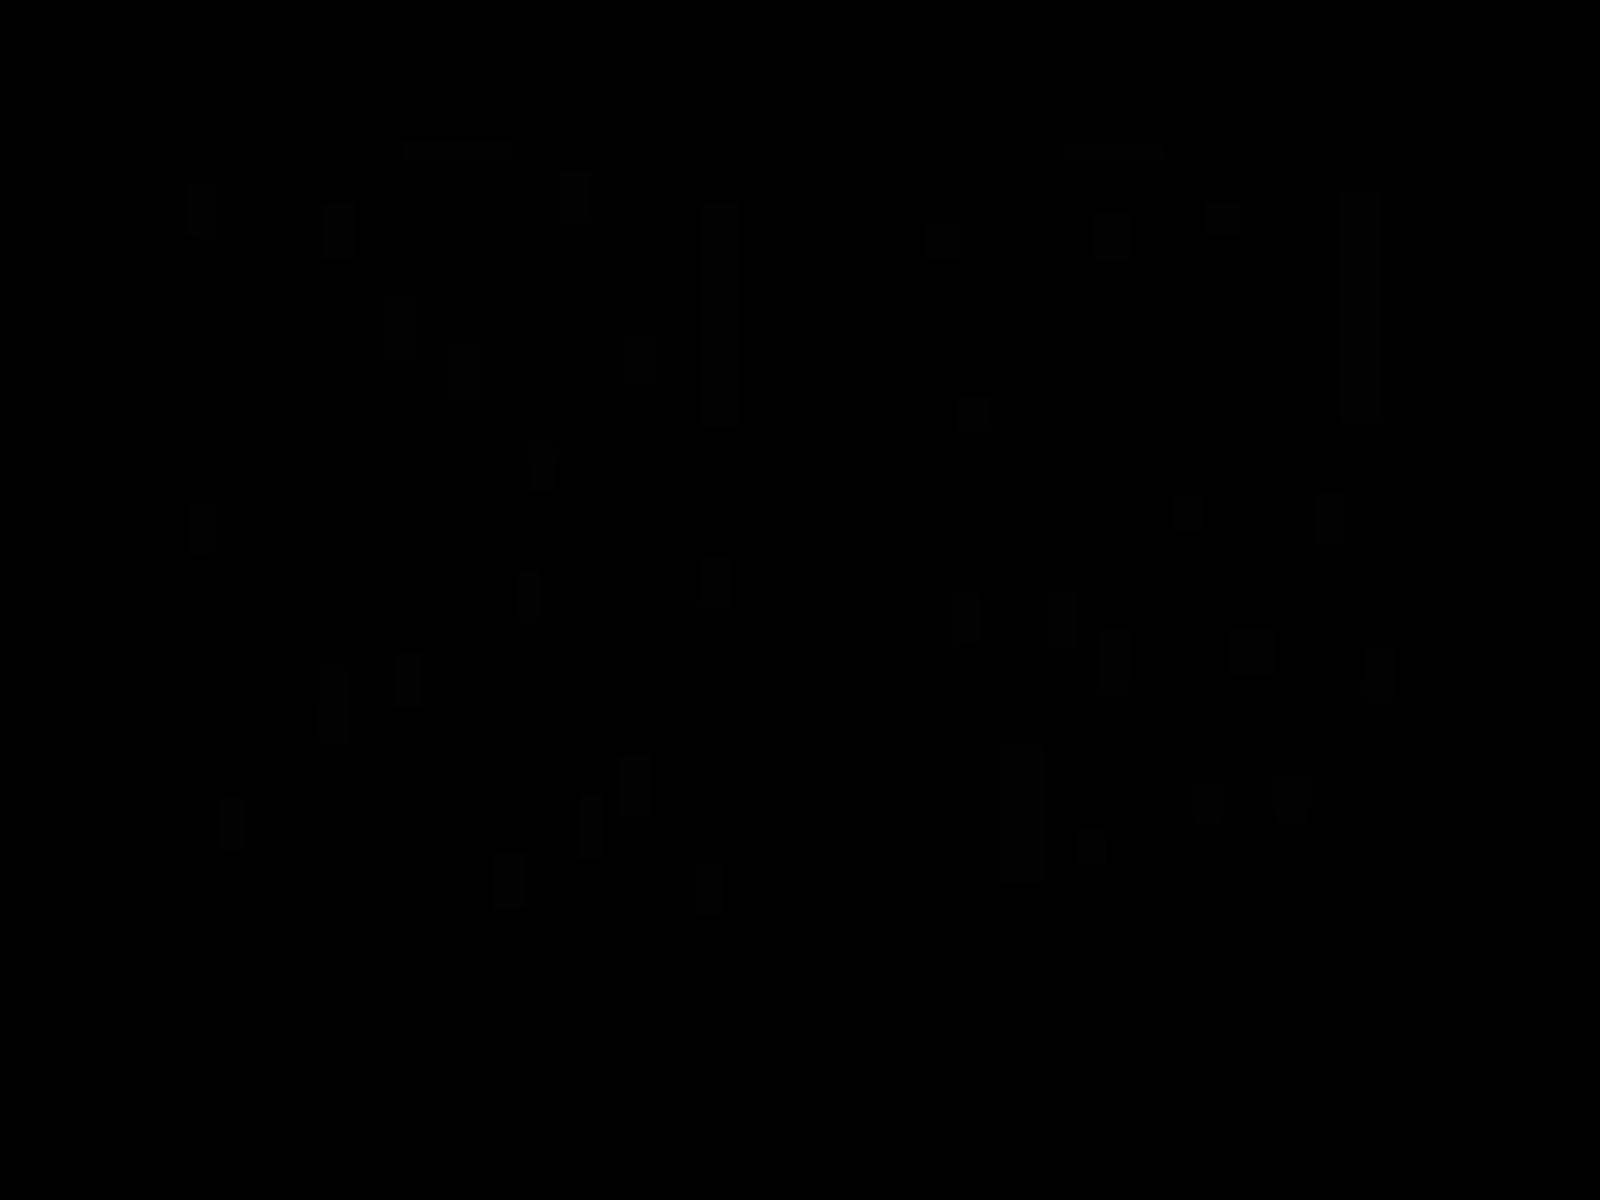1_overall: (69, 59, 1506, 1000)
3_typography: (1339, 192, 1383, 424), (702, 202, 740, 426), (1000, 745, 1044, 882), (319, 671, 349, 745), (1230, 629, 1276, 676), (402, 141, 511, 160), (619, 755, 653, 816), (1099, 630, 1129, 696), (321, 203, 357, 258), (493, 852, 527, 909), (1094, 212, 1130, 262), (386, 297, 414, 357), (447, 345, 480, 397), (1048, 592, 1078, 648), (1065, 145, 1165, 161), (559, 170, 591, 221), (394, 654, 423, 708), (580, 794, 603, 860), (186, 185, 215, 237), (700, 556, 729, 608), (695, 863, 724, 915), (1315, 493, 1344, 545), (1364, 649, 1395, 698), (952, 592, 981, 643), (1277, 775, 1306, 824), (188, 504, 215, 555), (624, 337, 655, 381), (219, 798, 244, 850), (530, 445, 556, 492), (926, 224, 960, 258), (1204, 203, 1240, 236), (956, 398, 991, 431), (518, 570, 540, 619), (1194, 790, 1223, 824), (1077, 829, 1106, 863), (1173, 495, 1201, 529)
4_illustration: (362, 284, 661, 461), (1089, 681, 1398, 813), (210, 454, 344, 700), (1177, 261, 1332, 442), (877, 439, 1092, 563), (426, 619, 569, 771), (254, 741, 398, 892), (573, 600, 731, 734), (198, 209, 317, 377), (1110, 837, 1369, 910), (380, 512, 677, 567), (449, 221, 680, 262), (1191, 552, 1327, 613), (883, 643, 961, 734), (661, 740, 700, 914), (530, 876, 695, 911), (939, 794, 989, 904), (961, 287, 1026, 350), (991, 645, 1031, 730), (887, 277, 920, 357), (1096, 303, 1128, 378)
